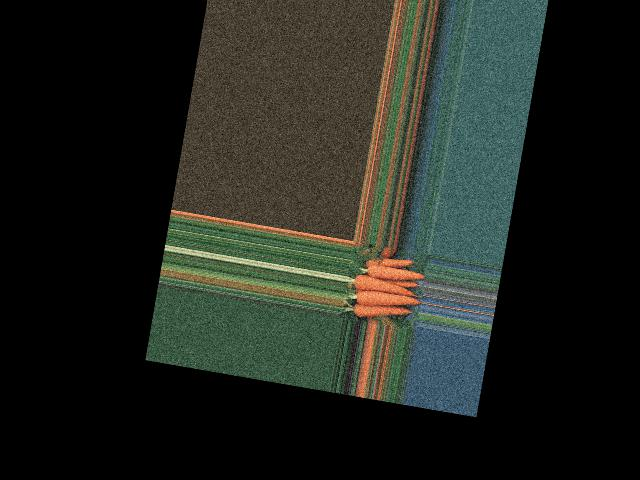carrot: (363, 259, 424, 286)
